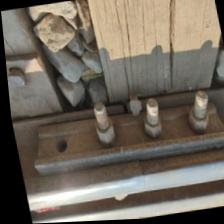person: (115, 101, 131, 118)
